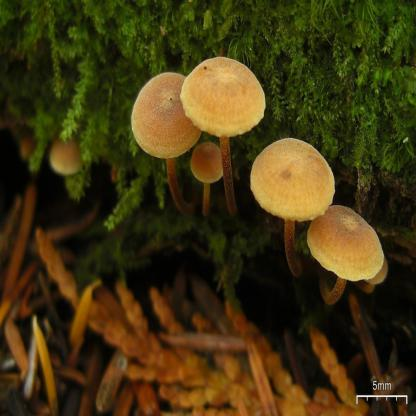Mushroom: (132, 56, 387, 310), (249, 139, 336, 274), (308, 207, 384, 305), (50, 128, 87, 174)
